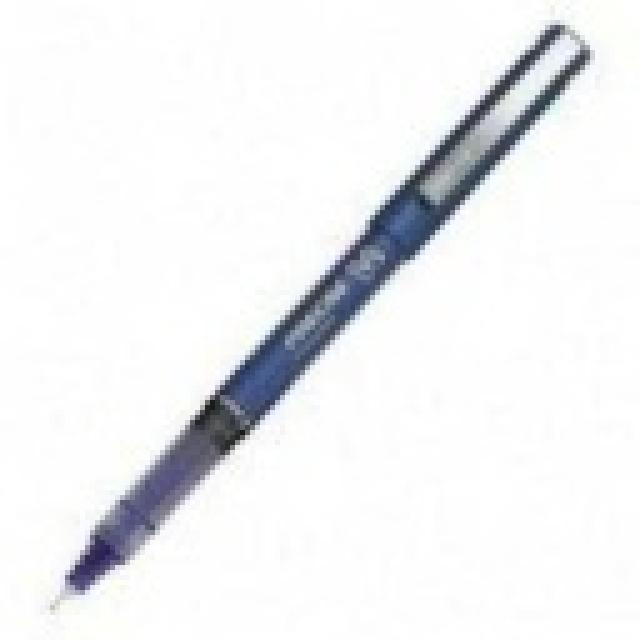pen: (39, 25, 604, 627)
